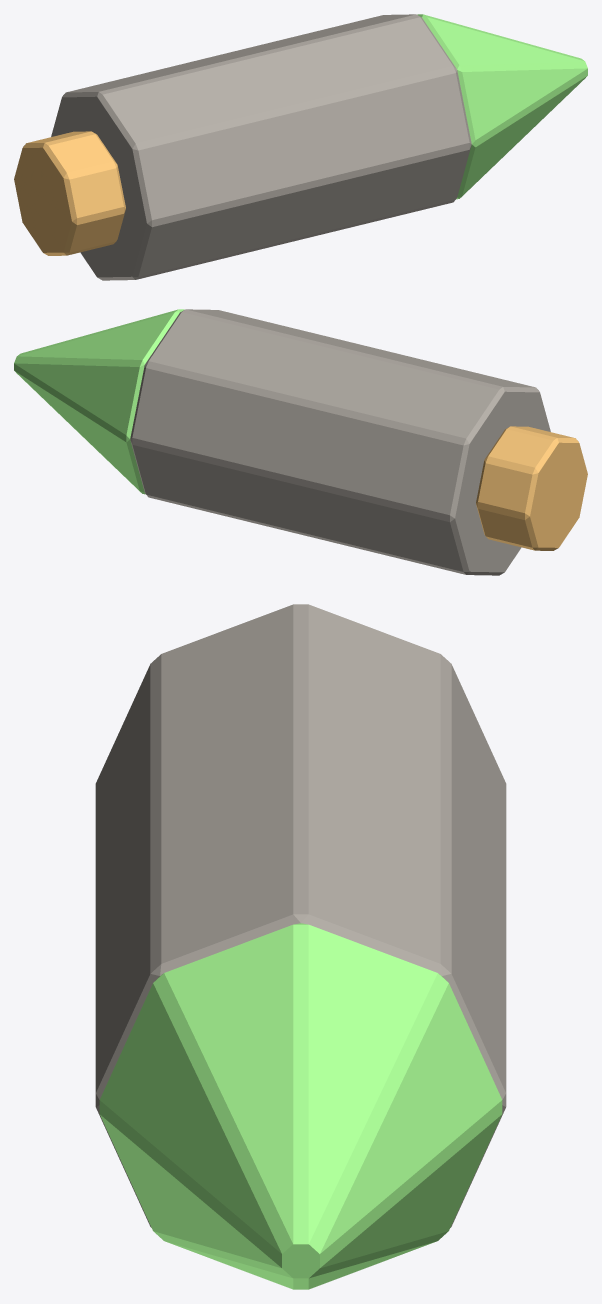
The model's file is SM_BoardingPod.fbx.
3 renders of one model, top to bottom at view 1: azimuth 30°, elevation 25°; view 2: azimuth 150°, elevation 25°; view 3: azimuth 270°, elevation 25°, orthographic. The views are drawn at different scales.
Visible parts, largest first — view 1: SM_BoardingPod; view 2: SM_BoardingPod; view 3: SM_BoardingPod.
Part boxes in pixels (x1=…): SM_BoardingPod: x1=14, y1=14, x2=587, y2=280; SM_BoardingPod: x1=14, y1=309, x2=587, y2=575; SM_BoardingPod: x1=95, y1=604, x2=506, y2=1289.
Size of the model in its own units: 29.94 by 9.85 by 9.85.
